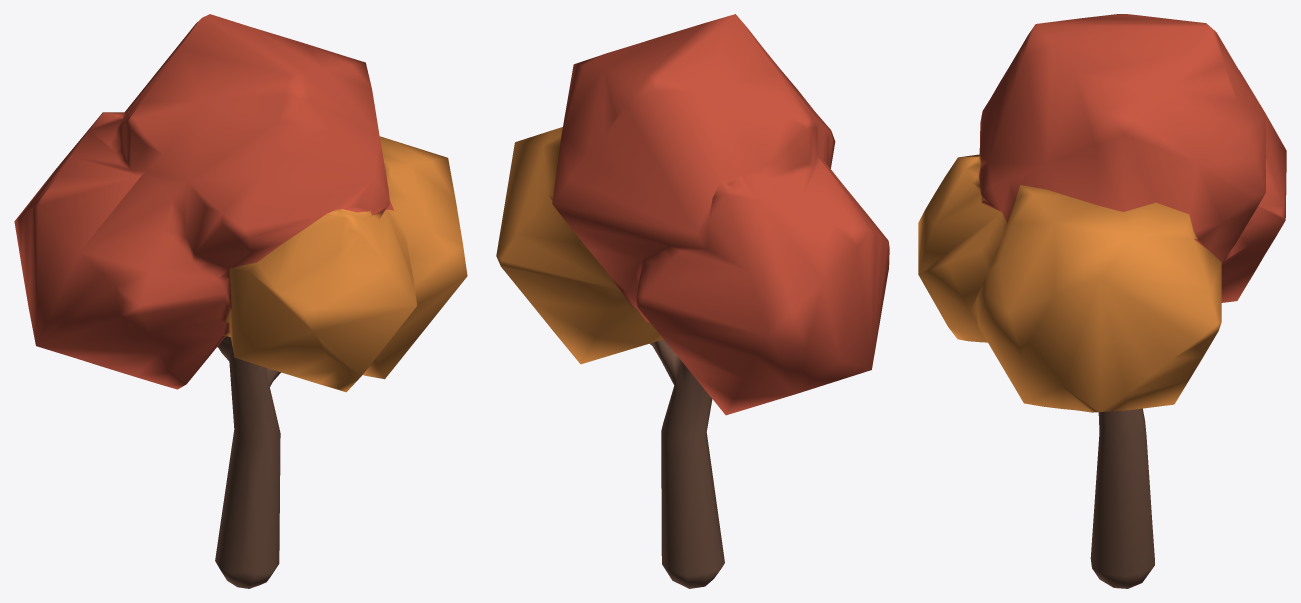
Rendered from tree.glb.
3 views of the same model, side by side, from view 1: azimuth 30°, elevation 25°; view 2: azimuth 150°, elevation 25°; view 3: azimuth 270°, elevation 25° (orthographic). The views are drawn at different scales.
Visible parts, largest first — view 1: tree; view 2: tree; view 3: tree.
Part boxes in pixels (left/top/right/bottom): tree: left=14, top=14, right=467, bottom=588; tree: left=496, top=14, right=889, bottom=588; tree: left=918, top=14, right=1286, bottom=588.
Size of the model in its own units: 3.95 by 5.3 by 3.16.
